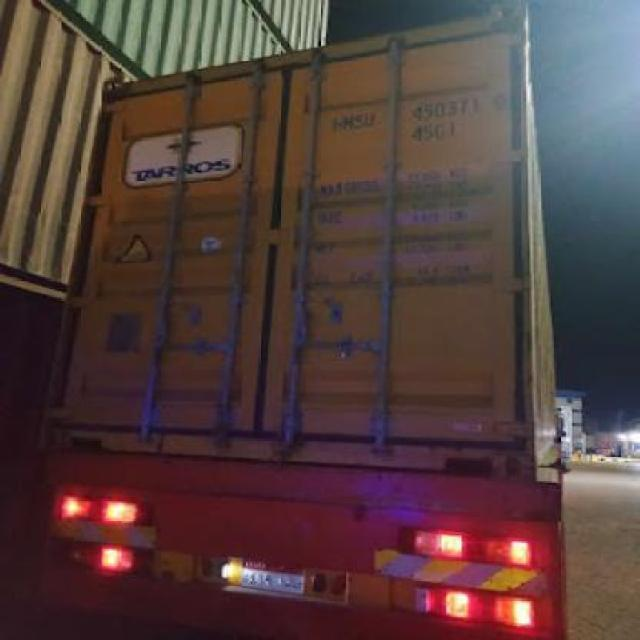ISO: (411, 122, 456, 142)
container_number: (330, 90, 512, 134)
